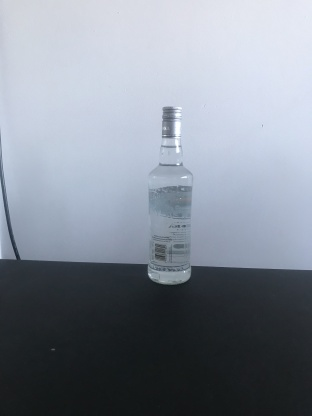nakretka: (160, 104, 183, 141)
